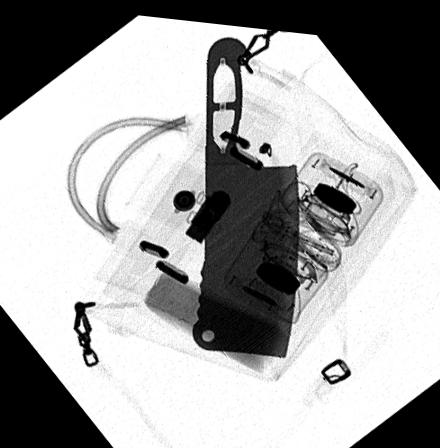Knife: (189, 30, 298, 352)
